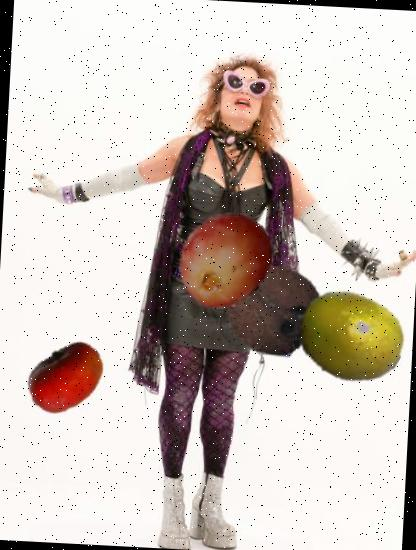Cocos: (220, 257, 328, 364)
Grape: (173, 208, 278, 312)
Maracuja: (291, 278, 408, 395)
Nectarine: (23, 334, 110, 421)
